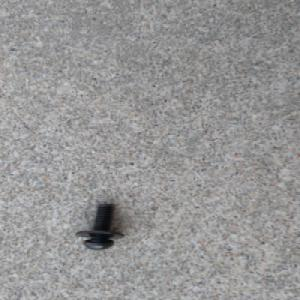BoltWasher: (73, 202, 126, 250)
